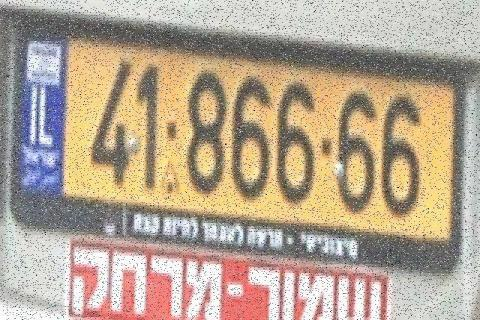LicensePlate: (15, 3, 472, 279)
